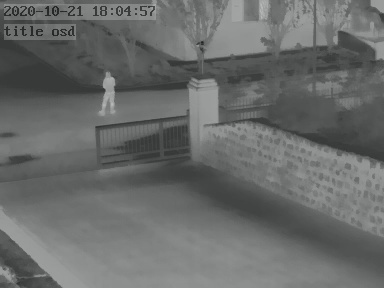person: (101, 68, 117, 113)
